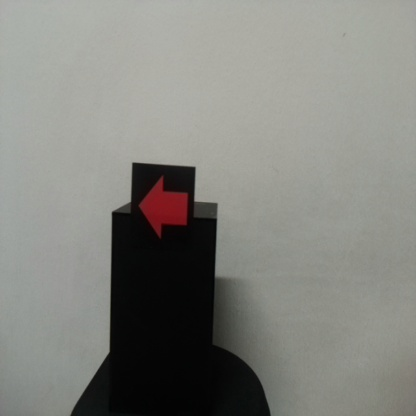id_4: (132, 164, 195, 255)
